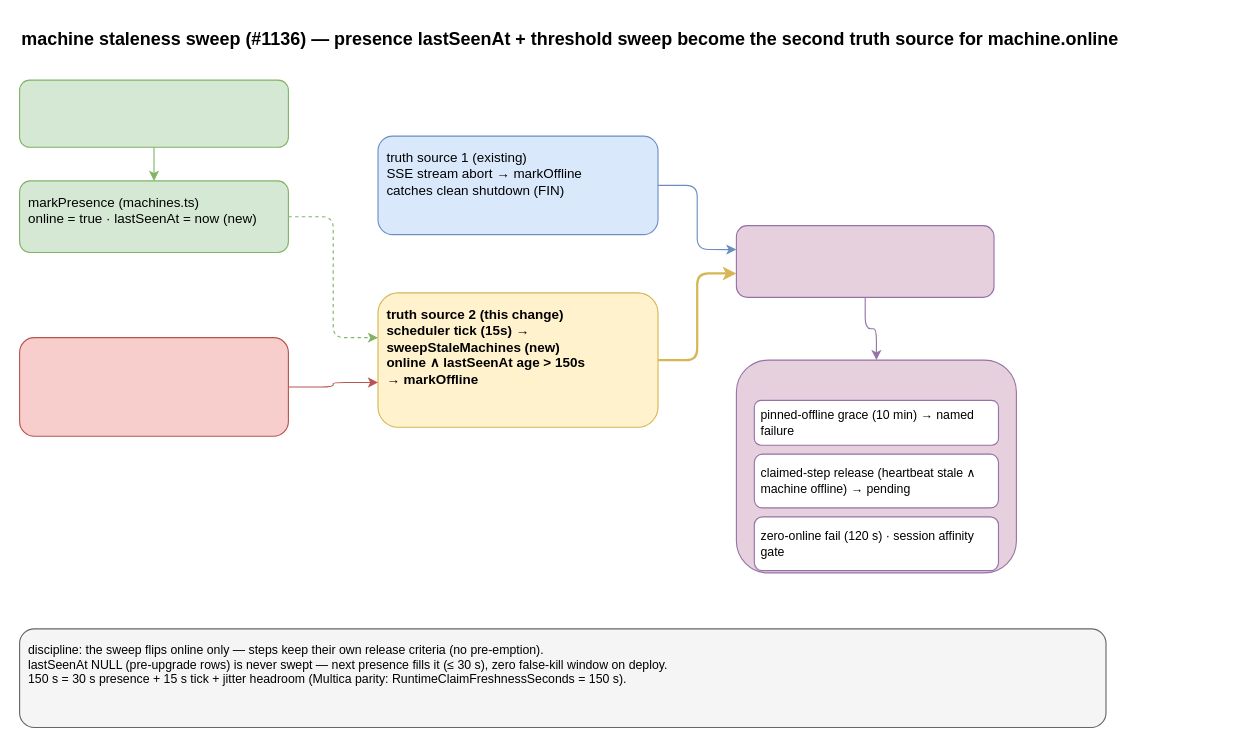
The diagram is 1249 pixels wide and 747 high, and some of its shapes have lost their labels. Each missing label, with the box of its shape:
bounded-wait family (#862 / #864 / #881) — all keyed on machine.online: (735, 359, 1016, 573)
daemon (alive) POST /api/machine/presence every 30s: (18, 79, 288, 147)
machine.online — now truthful (~3 min worst-case detection): (735, 225, 994, 297)
silent death (power loss · network partition · no FIN) SSE abort never fires: (18, 337, 288, 436)
